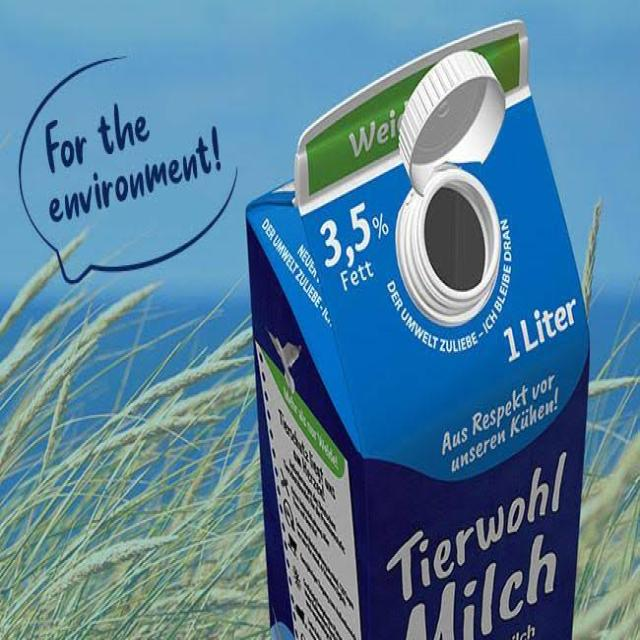drink carton: (241, 21, 590, 640)
